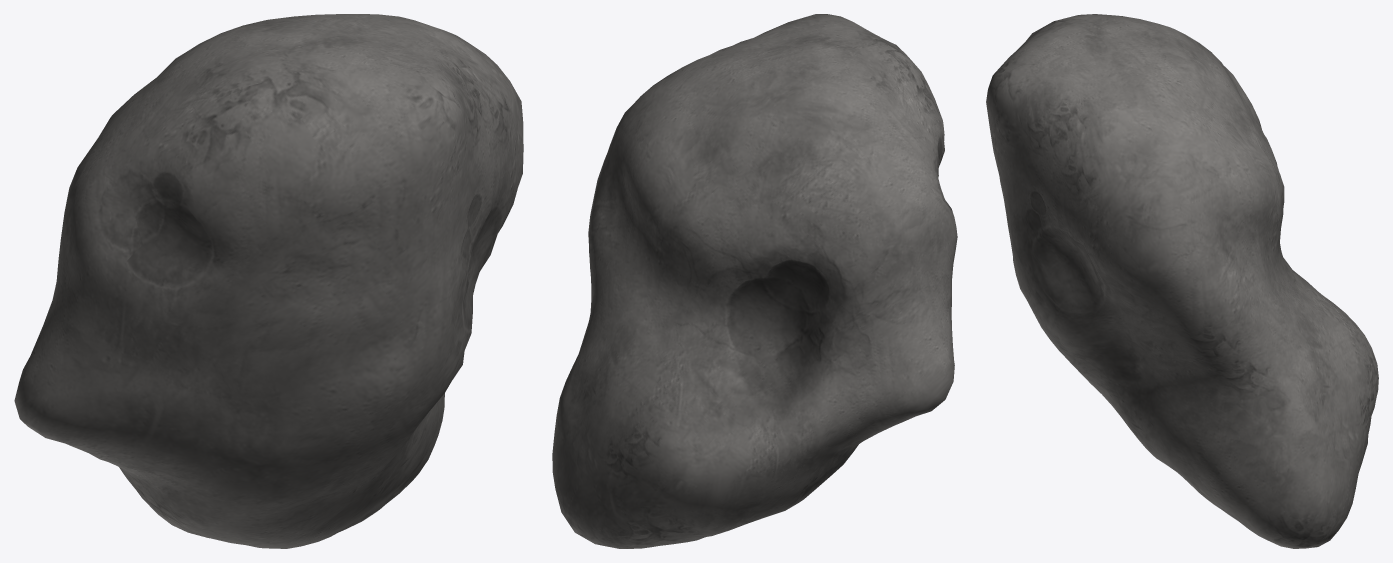
Rendered from romulus.glb.
3 renders of one model, left to right at view 1: azimuth 30°, elevation 25°; view 2: azimuth 150°, elevation 25°; view 3: azimuth 270°, elevation 25°, orthographic. The views are drawn at different scales.
Parts seen in each view (by area): view 1: asteroid_01; view 2: asteroid_01; view 3: asteroid_01.
Boxes of the visible parts, left/top/right/bottom form: asteroid_01: left=14, top=14, right=523, bottom=548; asteroid_01: left=552, top=14, right=957, bottom=548; asteroid_01: left=986, top=14, right=1378, bottom=548.
Size of the model in its own units: 1.09 by 1.32 by 1.03.
1 material, 1 textured.
